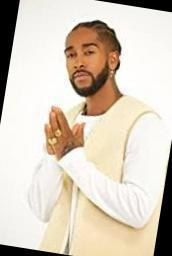Sober: (65, 30, 108, 88)
